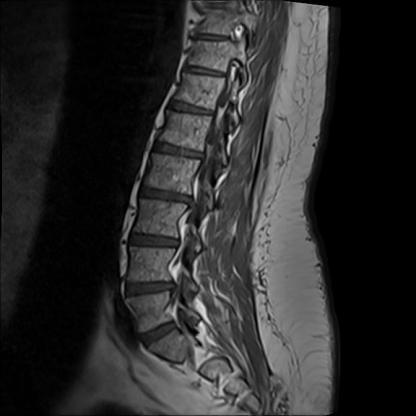Annular Disc Relaxationrotation: (126, 231, 181, 253), (150, 143, 206, 162)
Degenerative Disc Diseaserotation: (137, 188, 193, 205), (126, 280, 175, 298)
Disc Bulgerotation: (138, 323, 183, 345), (137, 188, 193, 205), (126, 280, 175, 298)
